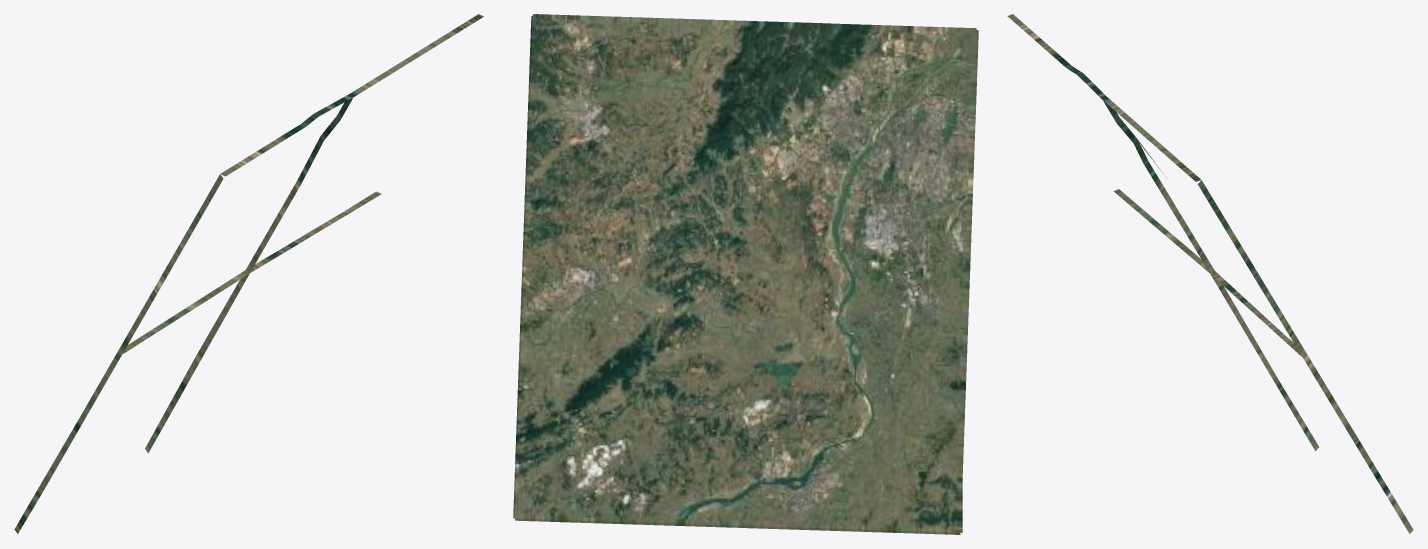
3 renders of one model, left to right at view 1: azimuth 30°, elevation 25°; view 2: azimuth 150°, elevation 25°; view 3: azimuth 270°, elevation 25°, orthographic. The views are drawn at different scales.
Size of the model in its own units: 79367 by 69684 by 64448.
Materials: 1 (1 with a texture image).
